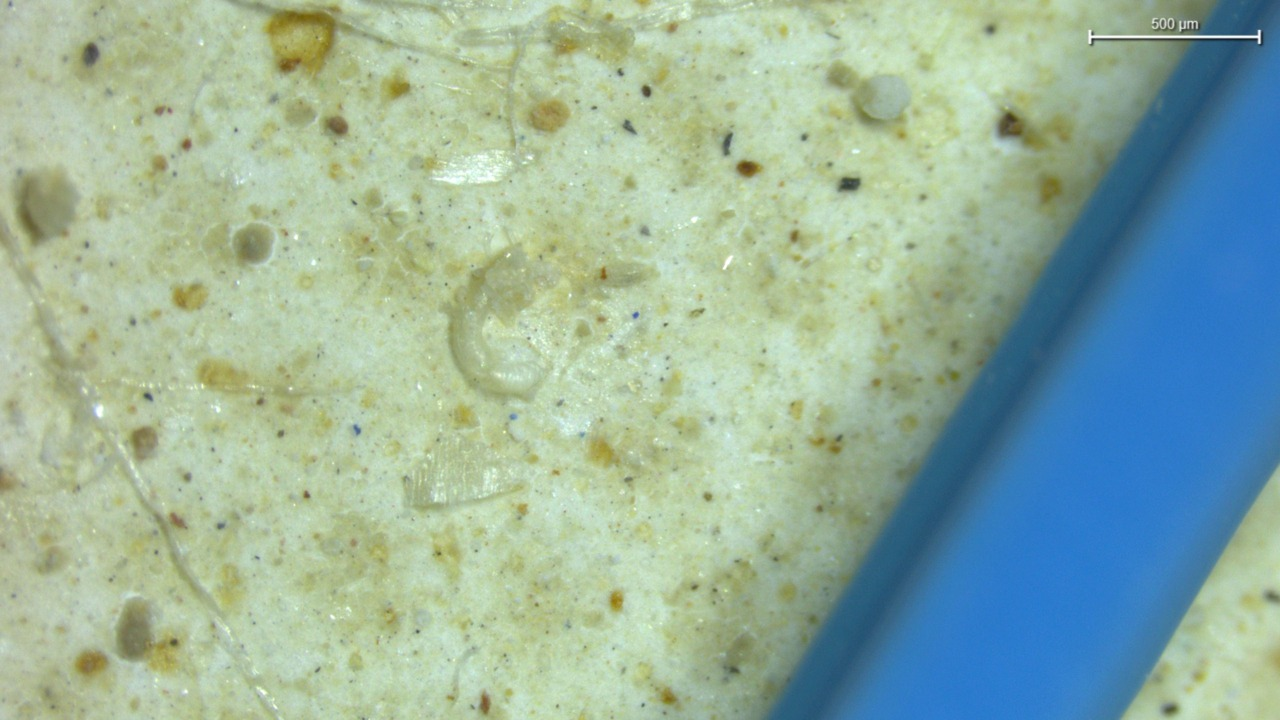microplastic_fragment: (445, 246, 562, 398), (402, 433, 520, 507), (855, 75, 911, 120)
